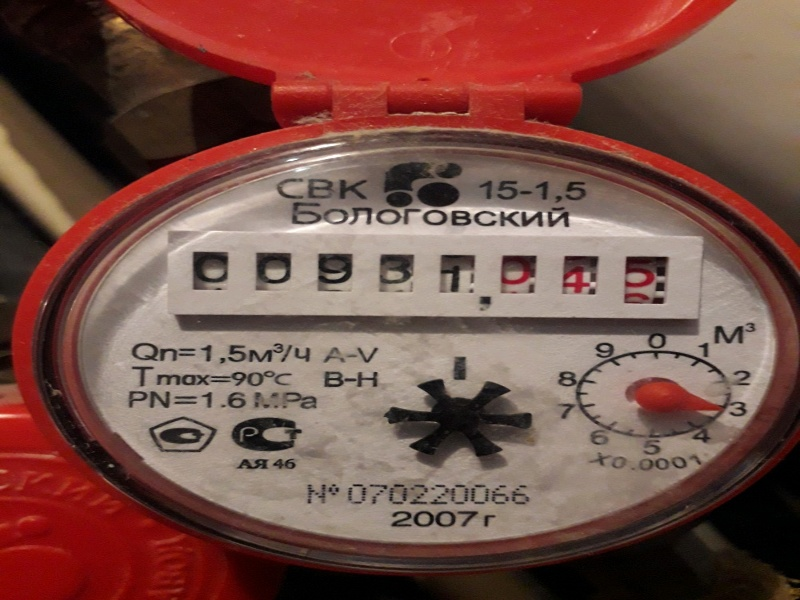meter: (179, 234, 685, 320)
